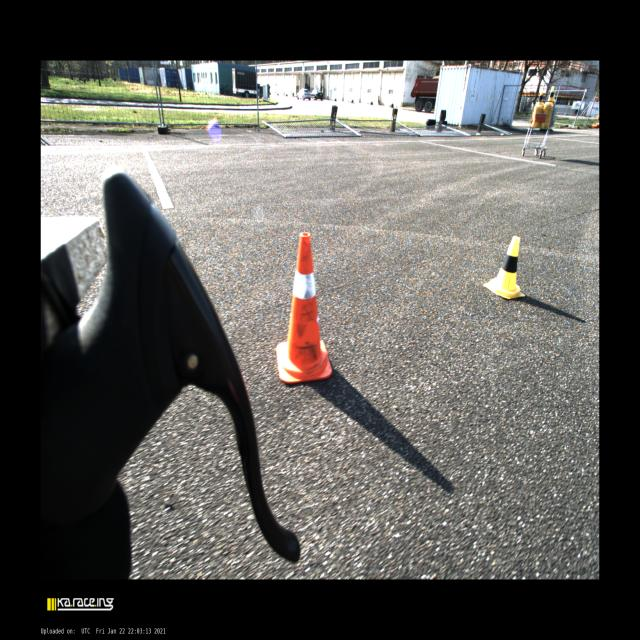large_orange_cone: (276, 232, 332, 382)
yellow_cone: (484, 236, 525, 299), (545, 86, 555, 104), (534, 90, 544, 106)
